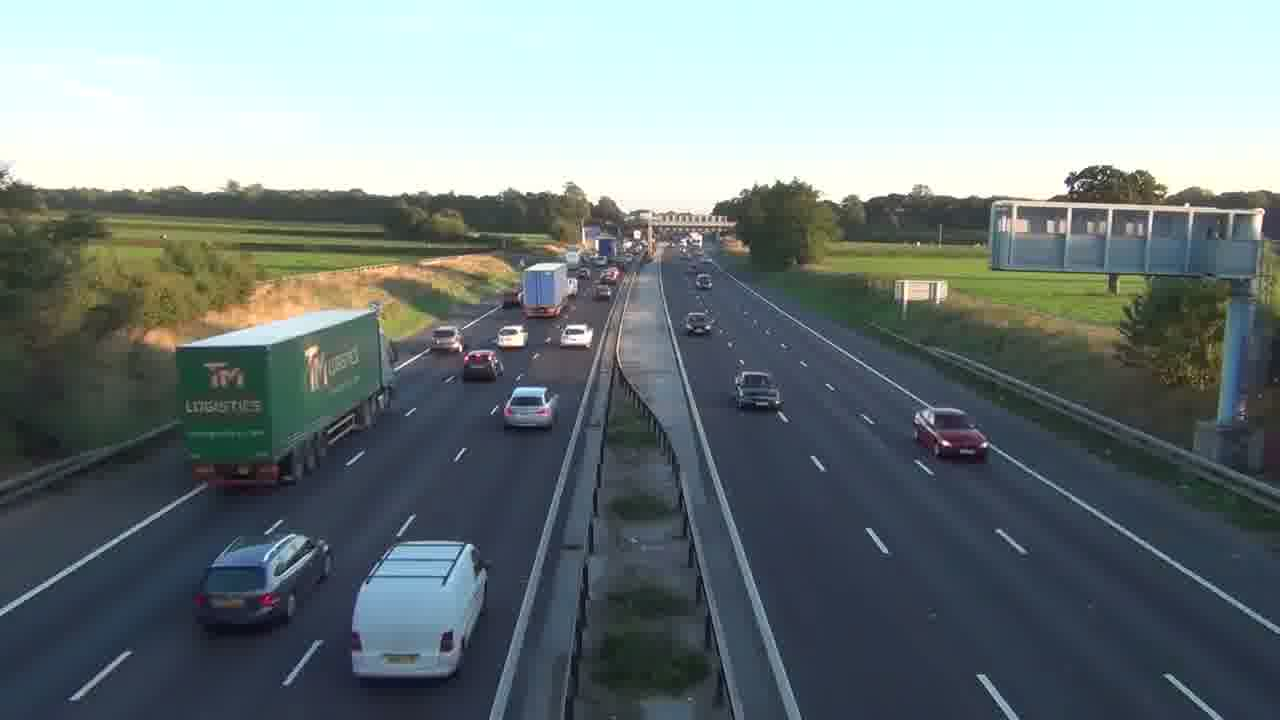car: (192, 528, 334, 632), (911, 405, 990, 462), (503, 385, 559, 431), (733, 369, 782, 410), (462, 349, 504, 382), (560, 322, 593, 349), (684, 311, 712, 336)
truck: (176, 306, 397, 491), (350, 538, 490, 682)
